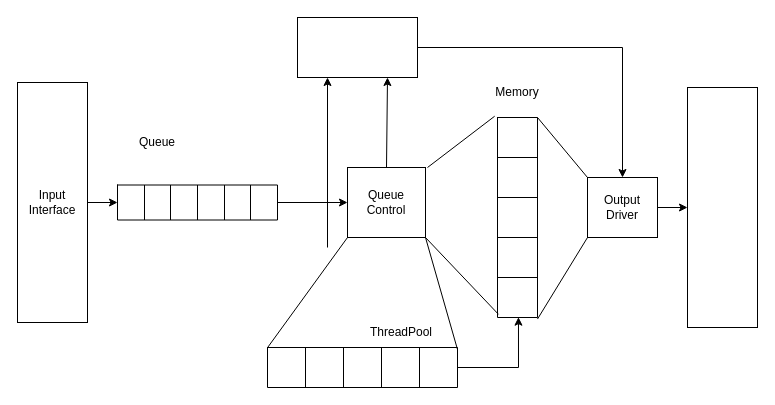
Some shapes in this 775 by 405 pixel diagram are drawn without their labels. Each missing label, with the centre of its shape:
"CountRef" belongs at [357,47].
"Output Interface" belongs at [722,207].
